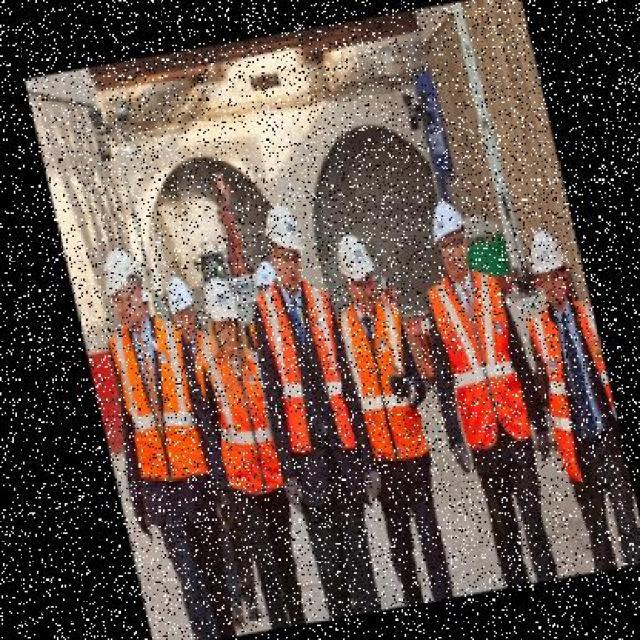helmet: (85, 236, 143, 299), (252, 203, 306, 265), (328, 232, 378, 284), (191, 275, 239, 327), (520, 231, 565, 274), (423, 200, 465, 242)
vest: (420, 269, 536, 461), (242, 275, 354, 467), (520, 305, 626, 501), (189, 345, 293, 514), (340, 297, 432, 480), (102, 320, 202, 486)
